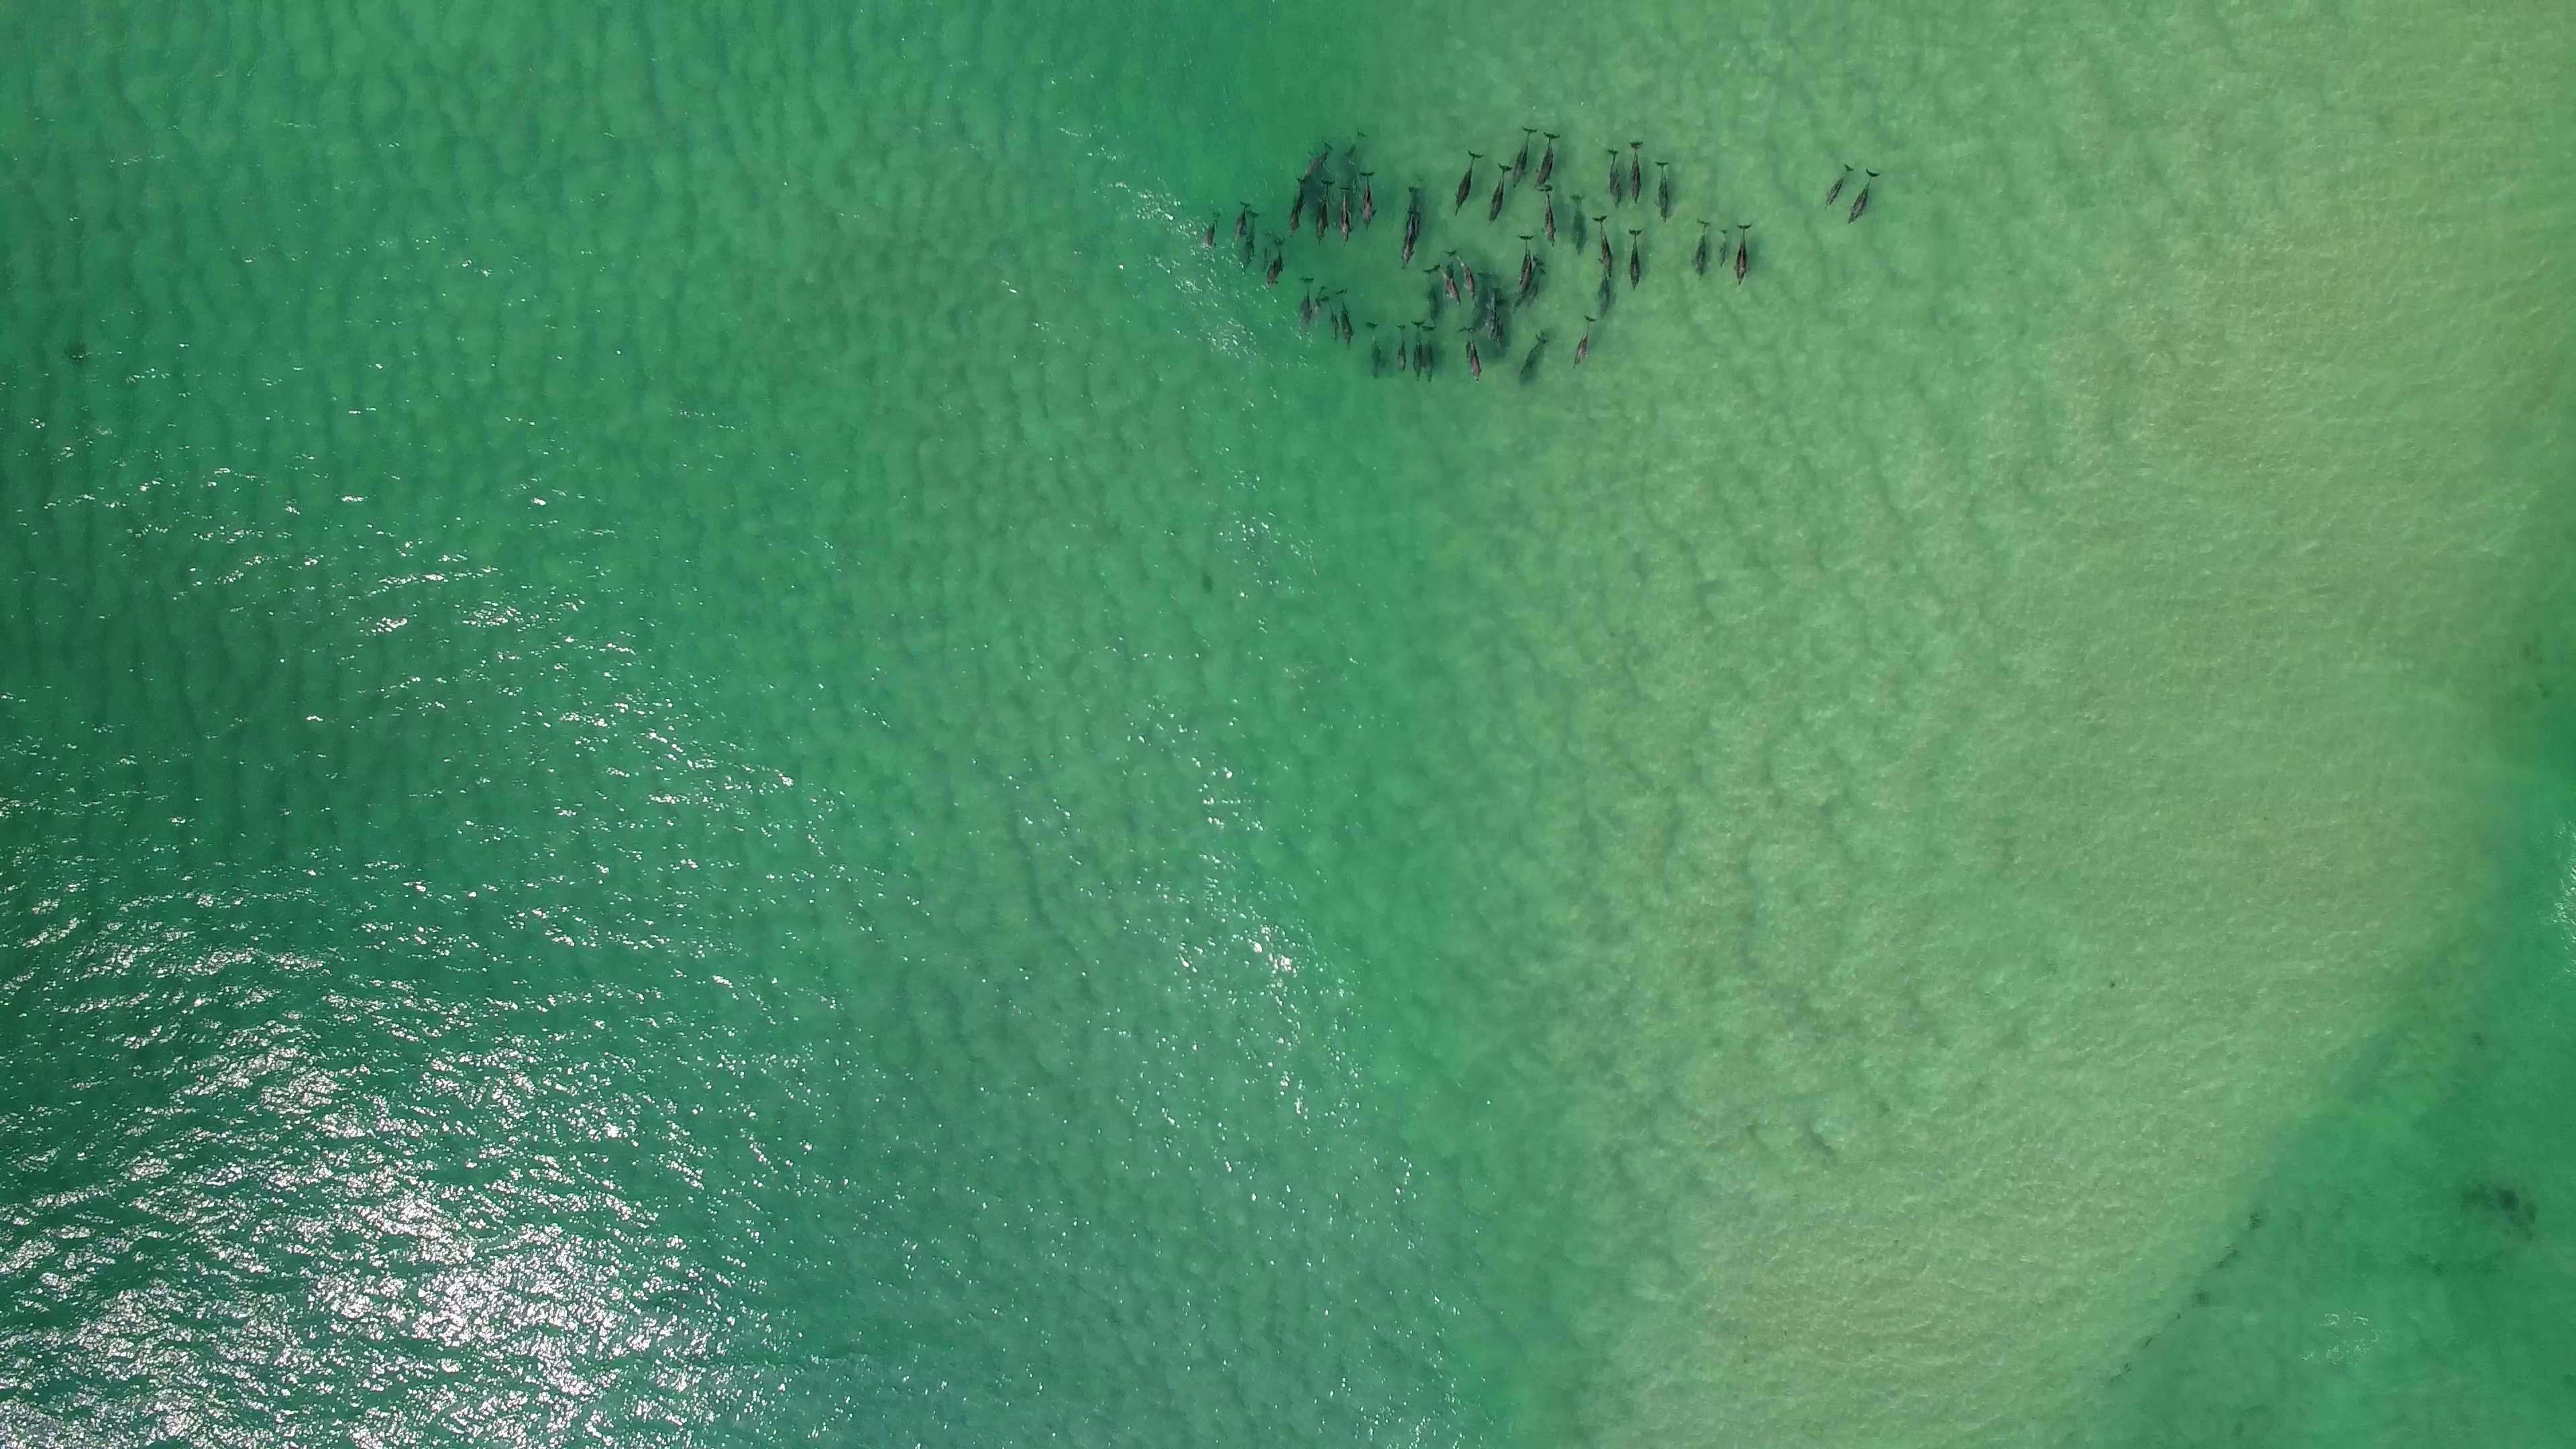dolphin: (1451, 143, 1484, 221), (1396, 207, 1430, 269), (1445, 244, 1481, 301), (1509, 120, 1536, 193), (1849, 166, 1881, 226), (1686, 219, 1716, 280), (1534, 131, 1562, 193), (1240, 205, 1267, 271), (1518, 333, 1552, 384), (1486, 163, 1513, 226), (1591, 214, 1617, 274), (1267, 230, 1293, 288), (1732, 219, 1755, 287), (1652, 157, 1674, 228), (1302, 142, 1336, 186), (1822, 161, 1854, 207), (1571, 313, 1598, 368), (1541, 184, 1560, 258), (1284, 179, 1307, 241), (1568, 191, 1589, 257), (1196, 209, 1226, 255), (1421, 267, 1444, 327), (1594, 258, 1615, 322), (1516, 232, 1536, 299), (1407, 184, 1426, 249), (1364, 322, 1385, 380), (1336, 288, 1355, 350), (1410, 322, 1428, 389), (1626, 140, 1644, 205), (1438, 264, 1465, 306), (1465, 327, 1483, 387), (1629, 228, 1645, 294), (1297, 274, 1315, 333), (1361, 168, 1376, 232), (1338, 186, 1353, 249), (1320, 294, 1341, 340), (1422, 318, 1437, 386), (1318, 180, 1330, 253), (1392, 320, 1407, 379), (1233, 200, 1249, 248), (1714, 228, 1732, 271), (1488, 287, 1500, 345), (1606, 147, 1619, 196), (1610, 170, 1624, 211), (1313, 285, 1323, 318)
